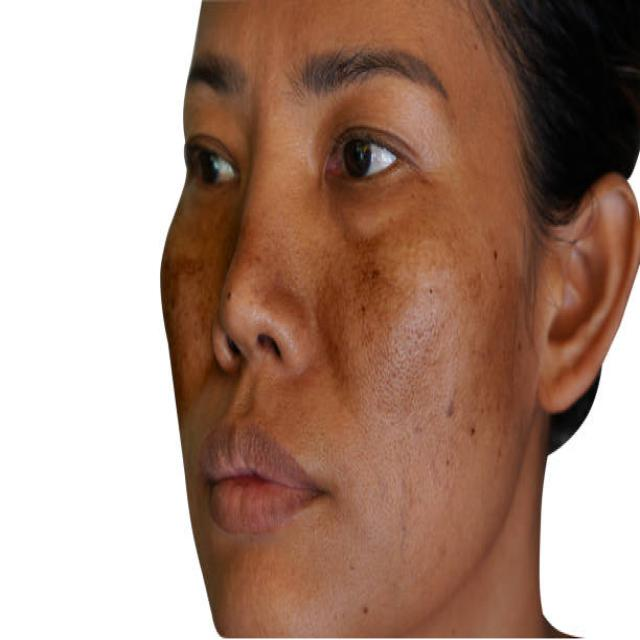pigmentation: (337, 233, 416, 330), (153, 242, 207, 318)
